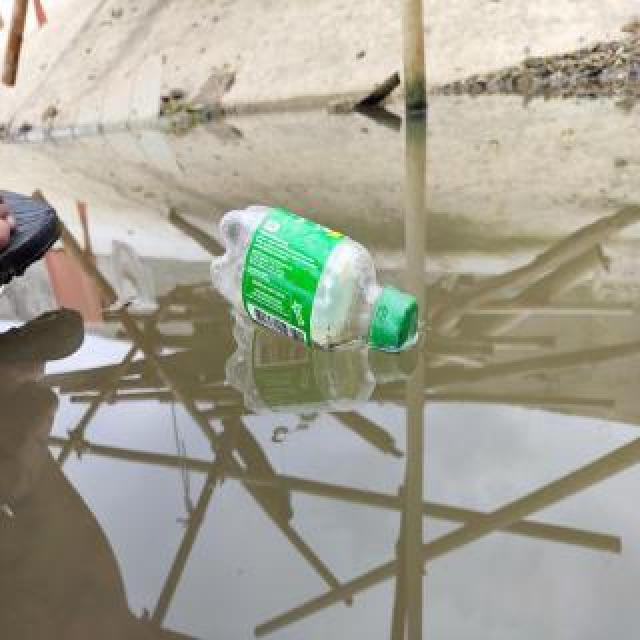bottle: (207, 198, 421, 356)
